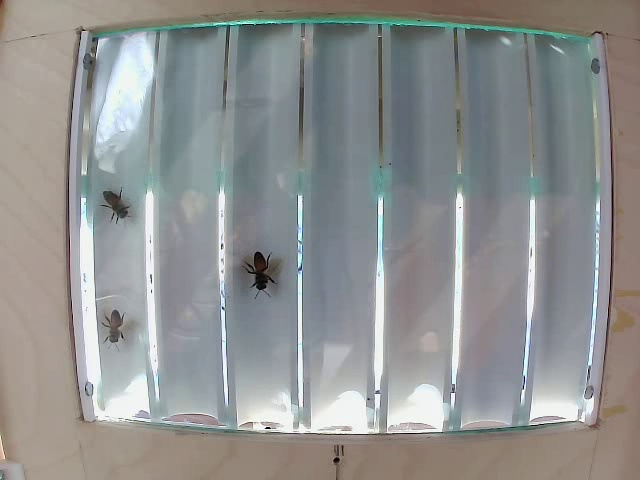bee: (103, 184, 140, 233), (95, 312, 134, 352), (242, 257, 282, 293)
